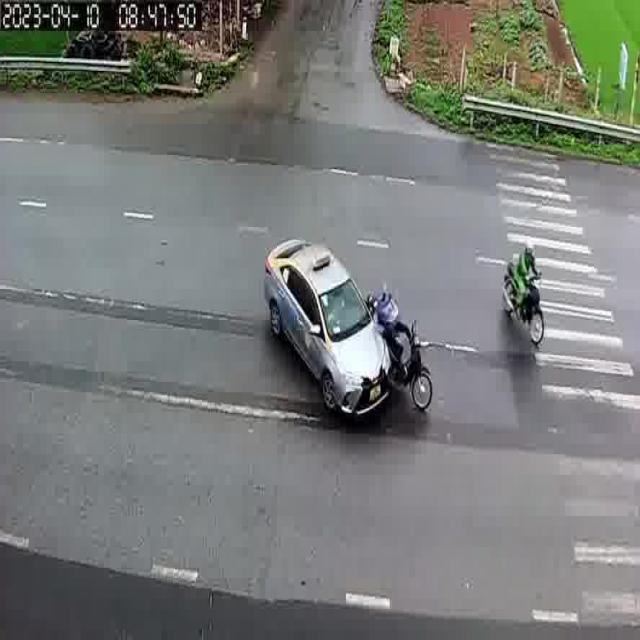multiple_accident: (257, 225, 438, 440)
normal: (480, 217, 564, 360)
